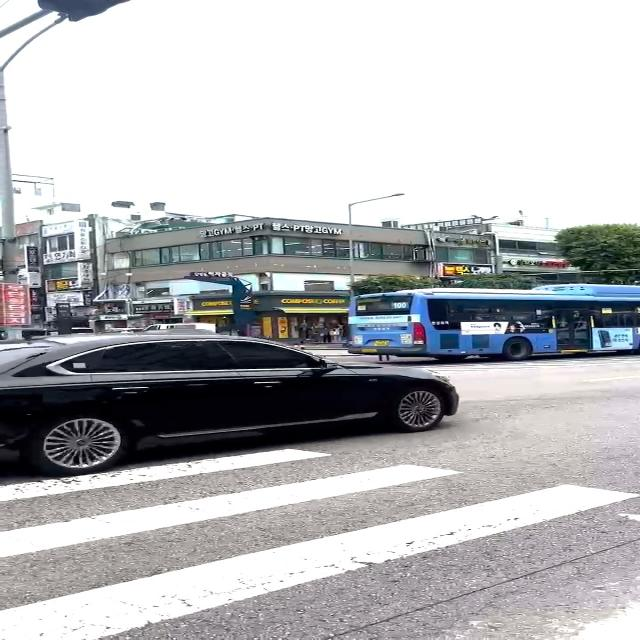building: (100, 208, 492, 284)
car: (0, 326, 460, 476), (350, 284, 631, 354)
